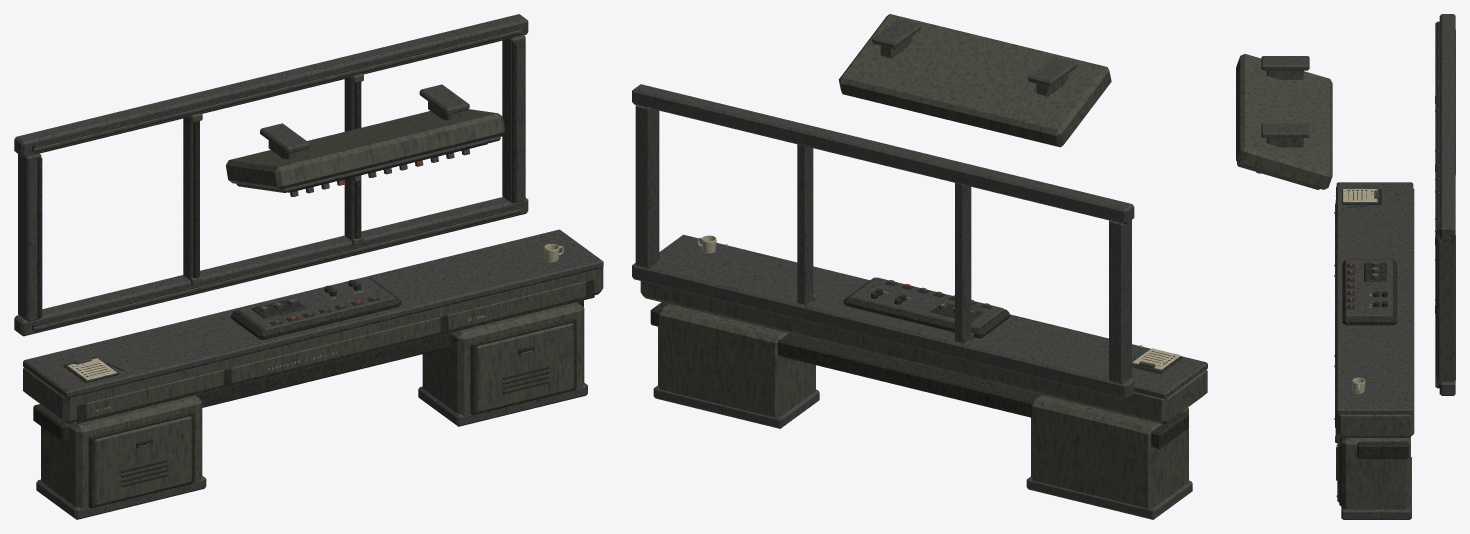
The model's file is cockpit_equipment.glb.
3 renders of one model, left to right at view 1: azimuth 30°, elevation 25°; view 2: azimuth 150°, elevation 25°; view 3: azimuth 270°, elevation 25°, orthographic. The views are drawn at different scales.
Visible parts, largest first — view 1: NavPlinth, WindowFrame, BreakerBank, DeskProps; view 2: NavPlinth, WindowFrame, BreakerBank, DeskProps; view 3: NavPlinth, BreakerBank, WindowFrame, DeskProps.
Boxes of the visible parts, x1=… form: NavPlinth: x1=23, y1=229, x2=603, y2=519; WindowFrame: x1=14, y1=14, x2=528, y2=336; BreakerBank: x1=226, y1=84, x2=504, y2=196; DeskProps: x1=63, y1=244, x2=563, y2=382; NavPlinth: x1=640, y1=234, x2=1207, y2=519; WindowFrame: x1=632, y1=84, x2=1134, y2=398; BreakerBank: x1=838, y1=14, x2=1111, y2=147; DeskProps: x1=697, y1=235, x2=1182, y2=374; NavPlinth: x1=1334, y1=182, x2=1414, y2=519; BreakerBank: x1=1236, y1=54, x2=1332, y2=189; WindowFrame: x1=1435, y1=14, x2=1455, y2=395; DeskProps: x1=1342, y1=189, x2=1381, y2=393.
Bounding box in the file's own units: 3.8 × 2.46 × 1.54.
Materials: 25 (25 with a texture image).
